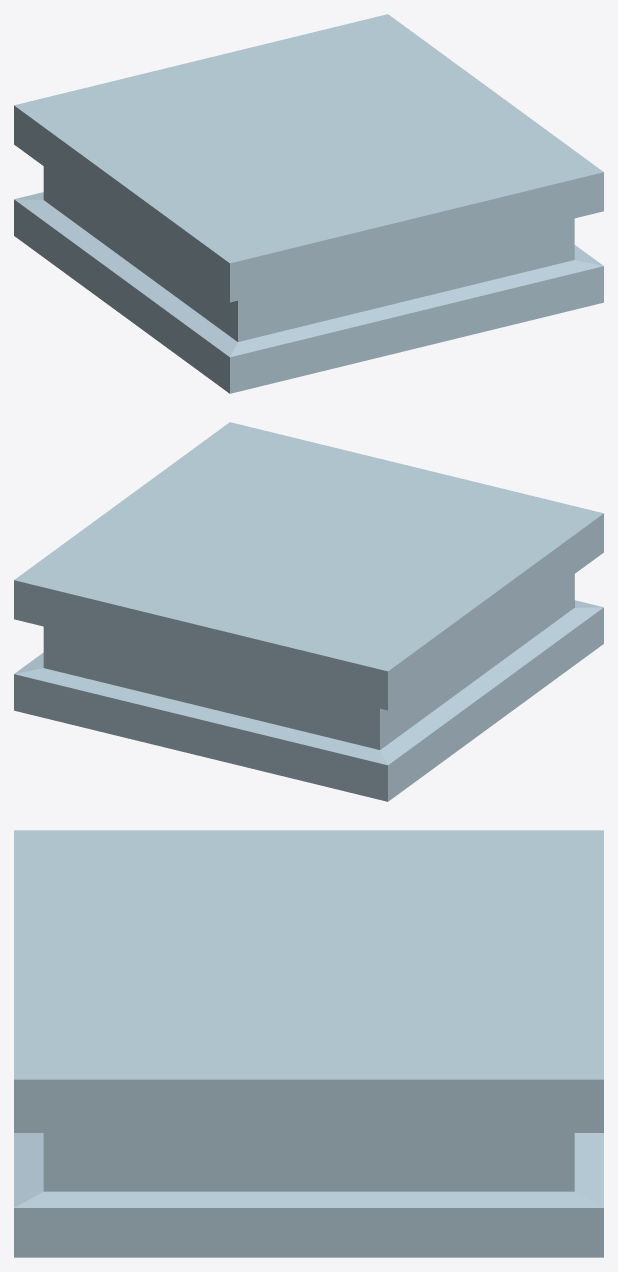
File: SkyScraper3_Middle_01.fbx
3 renders of one model, top to bottom at view 1: azimuth 30°, elevation 25°; view 2: azimuth 150°, elevation 25°; view 3: azimuth 270°, elevation 25°, orthographic. The views are drawn at different scales.
Parts seen in each view (by area): view 1: SkyScraper3_Middle_01; view 2: SkyScraper3_Middle_01; view 3: SkyScraper3_Middle_01.
Boxes of the visible parts, bbox=[...] form: SkyScraper3_Middle_01: bbox=[14, 14, 603, 393]; SkyScraper3_Middle_01: bbox=[14, 422, 603, 801]; SkyScraper3_Middle_01: bbox=[14, 830, 603, 1257].
Size of the model in its own units: 96 by 32 by 96.
